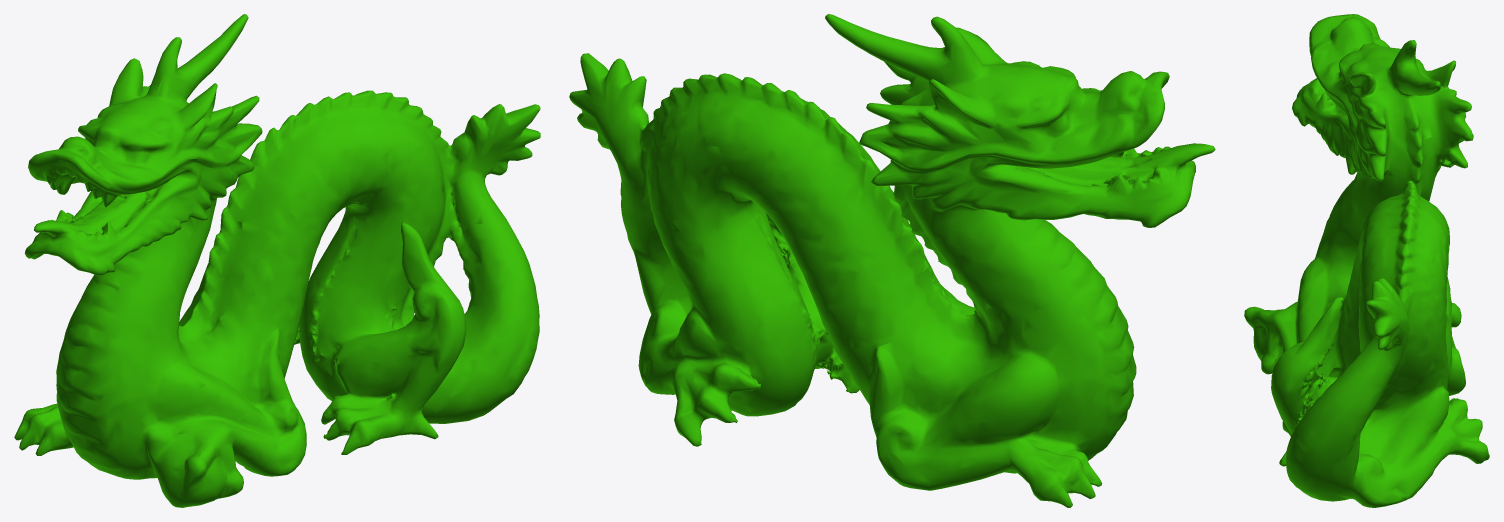
The model's file is dragon.fbx.
3 renders of one model, left to right at view 1: azimuth 30°, elevation 25°; view 2: azimuth 150°, elevation 25°; view 3: azimuth 270°, elevation 25°, orthographic. The views are drawn at different scales.
Visible parts, largest first — view 1: Dragon; view 2: Dragon; view 3: Dragon.
Part boxes in pixels (x1,y1,x2,y2): Dragon: (14, 14, 540, 507); Dragon: (569, 14, 1215, 507); Dragon: (1244, 14, 1489, 507).
Bounding box in the file's own units: 1409 × 994 × 630.
